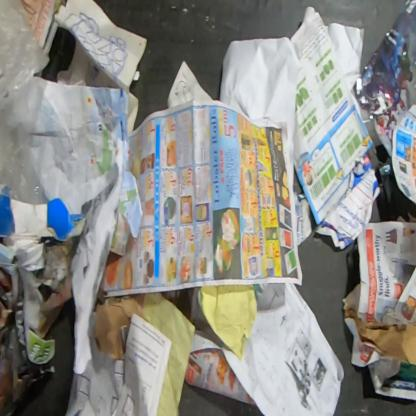cardboard: (0, 194, 87, 241)
soft_plastic: (0, 0, 50, 205)
